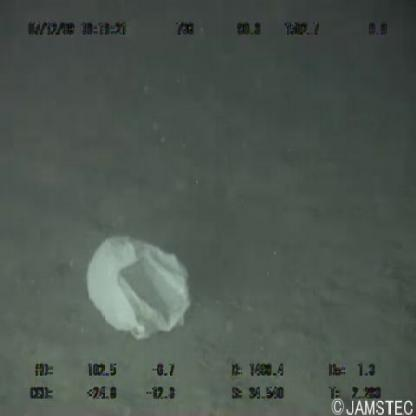Rác: (79, 229, 197, 346)
